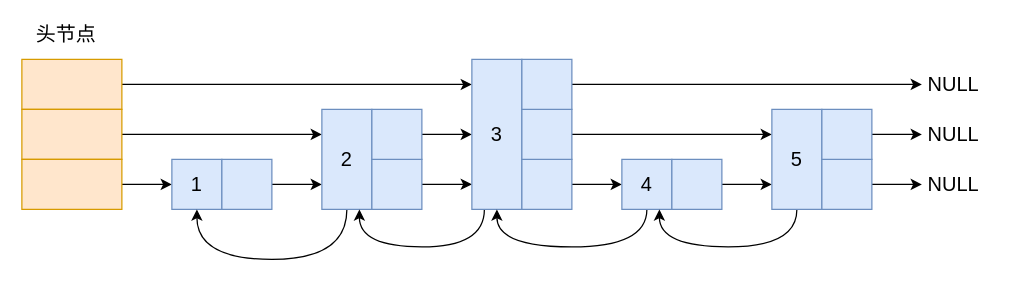
The diagram is 1013 pixels wide and 281 high, and some of its shapes have lost their labels. Each missing label, with the centre of its shape:
L0: the point at 71,183
L1: the point at 71,133
L2: the point at 71,83
